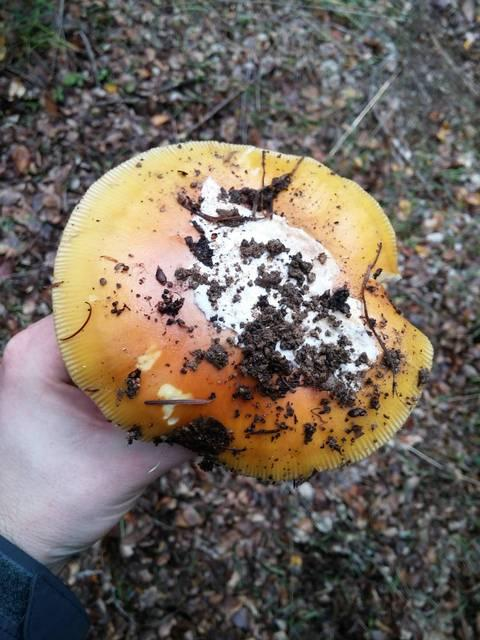Edible Mushroom: (49, 138, 435, 485)
